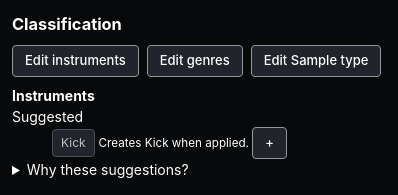
Test: automatically groups suggestions and applies one directly, then displays saved classification
The width and height of the screenshot is (398, 195).
Check: the text "Creates Kick when applied." is shown, box left=98, top=136, right=252, bottom=150
What coordinates should you click on to do the following:
click the button named "Apply Kick"
I would click on:
 (270, 143)
Its box is left=252, top=127, right=287, bottom=159.
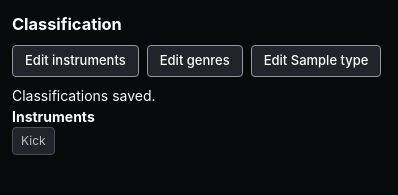
Check: the text "Kick" is shown, box left=12, top=127, right=55, bottom=155
Check: the text "Classifications saved." is shown, box left=12, top=87, right=156, bottom=104
